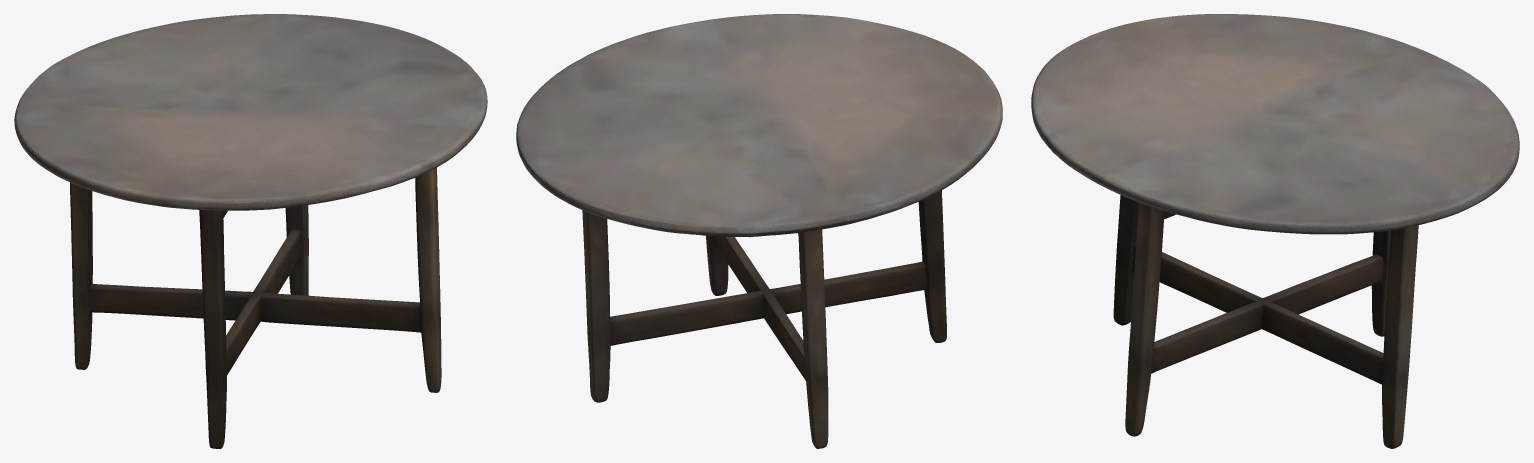
Rendered from small_wooden_table_000.glb.
The picture shows the model from 3 angles, left to right: view 1: azimuth 30°, elevation 25°; view 2: azimuth 150°, elevation 25°; view 3: azimuth 270°, elevation 25°; orthographic projection. The views are drawn at different scales.
Parts seen in each view (by area): view 1: small_wooden_table_000.obj; view 2: small_wooden_table_000.obj; view 3: small_wooden_table_000.obj.
Boxes of the visible parts, x1,y1,x2,y2 form: small_wooden_table_000.obj: [14, 14, 487, 448]; small_wooden_table_000.obj: [516, 14, 1002, 448]; small_wooden_table_000.obj: [1031, 14, 1519, 448].
Size of the model in its own units: 0.3446 by 0.2252 by 0.3449.
Materials: 1 (1 with a texture image).
